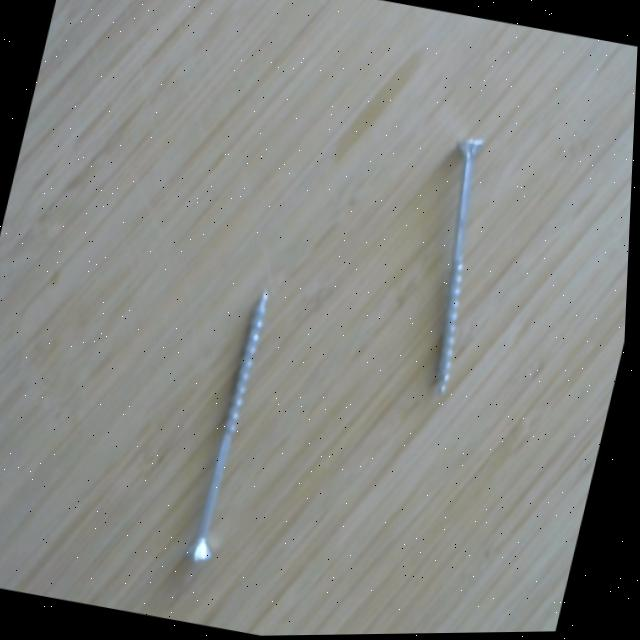Long screw: (400, 124, 519, 402), (176, 281, 284, 573)
